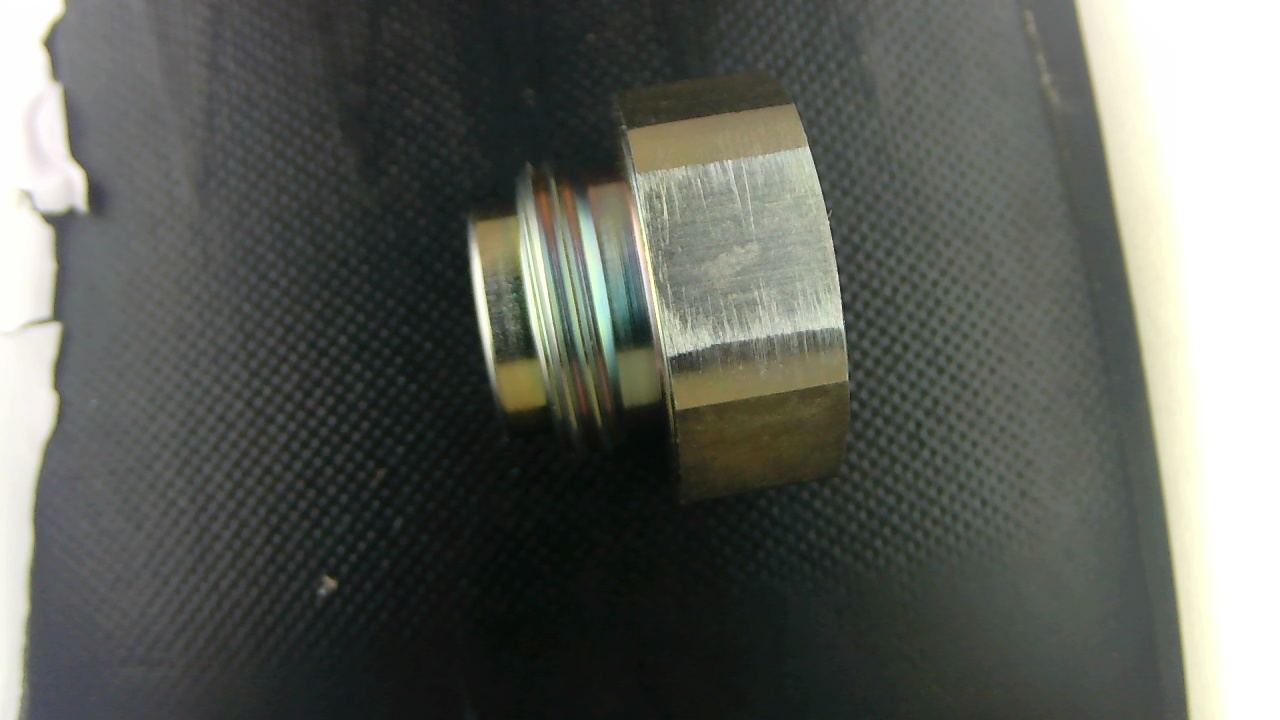Capnut_Okay: (468, 73, 847, 499)
